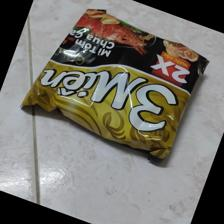3mien: (20, 8, 210, 167)
